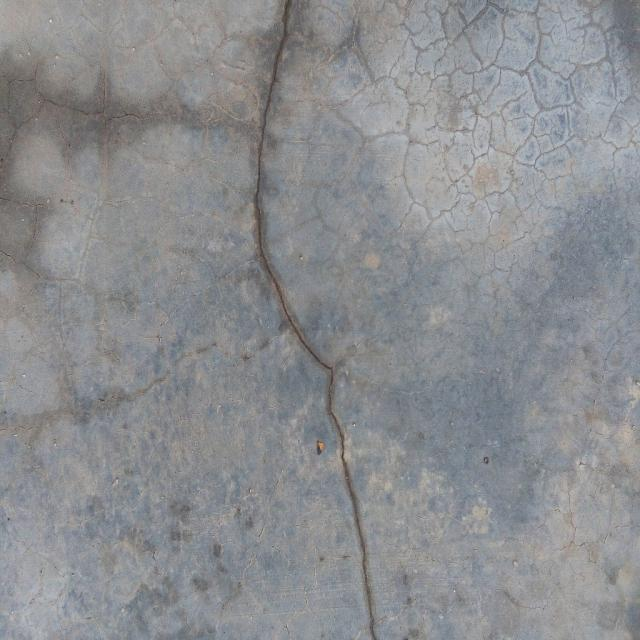cracks: (222, 0, 411, 640)
